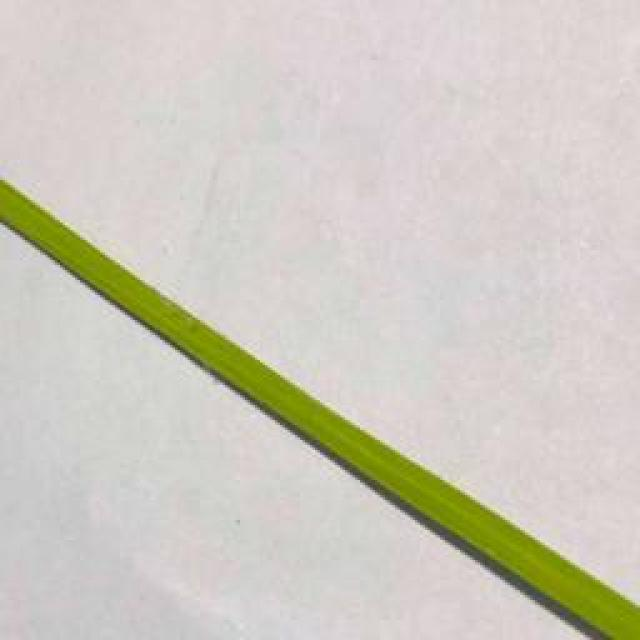Healthy-Plant: (0, 183, 640, 640)
